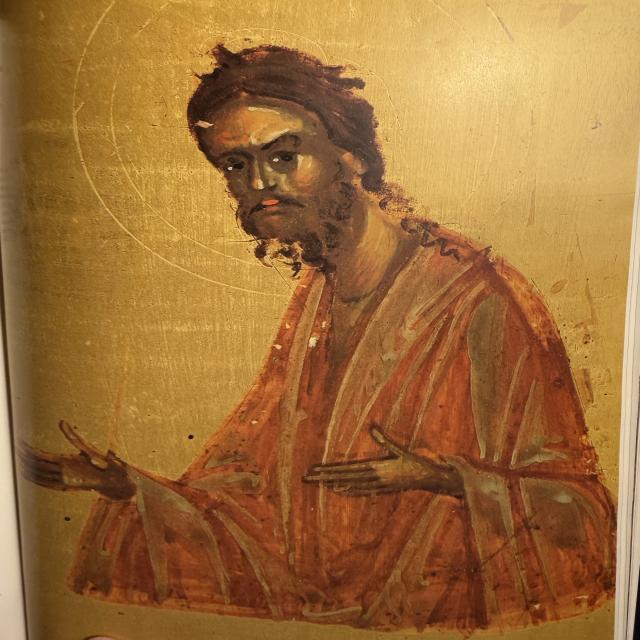aura: (82, 2, 539, 290)
saint: (1, 1, 614, 637)
